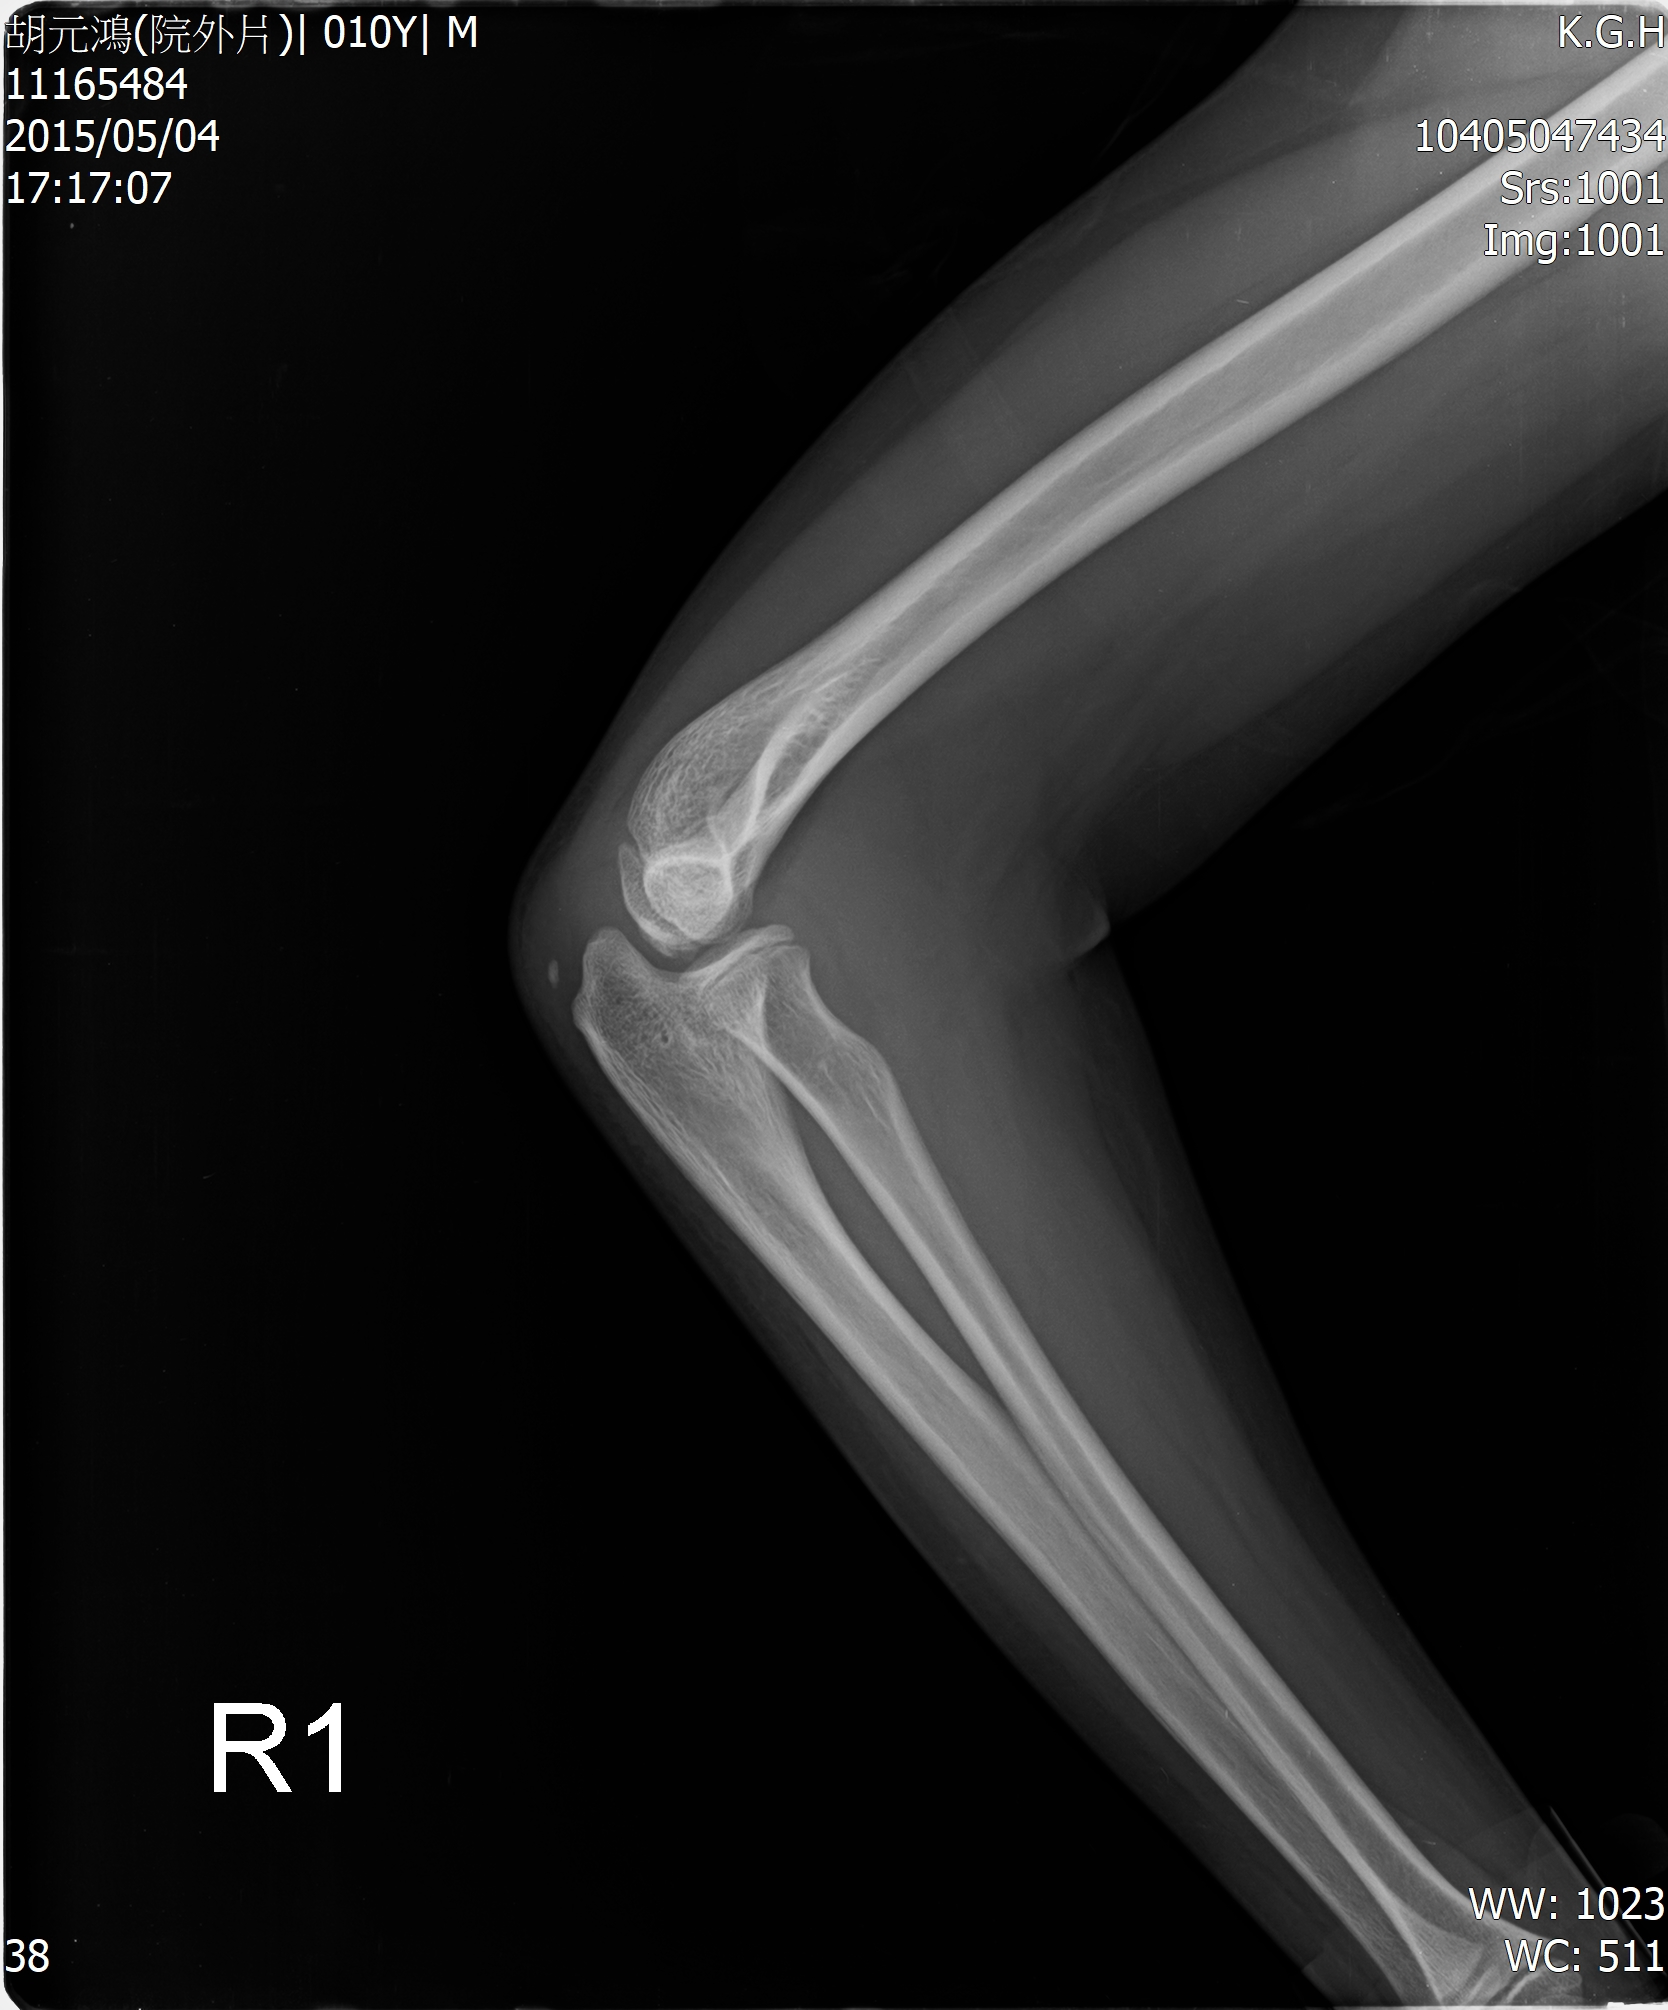Normal: (329, 591, 1102, 1336)
